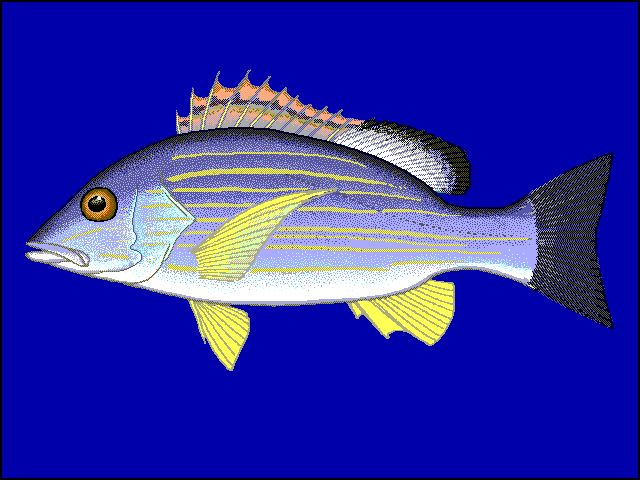fish: (24, 68, 615, 373)
